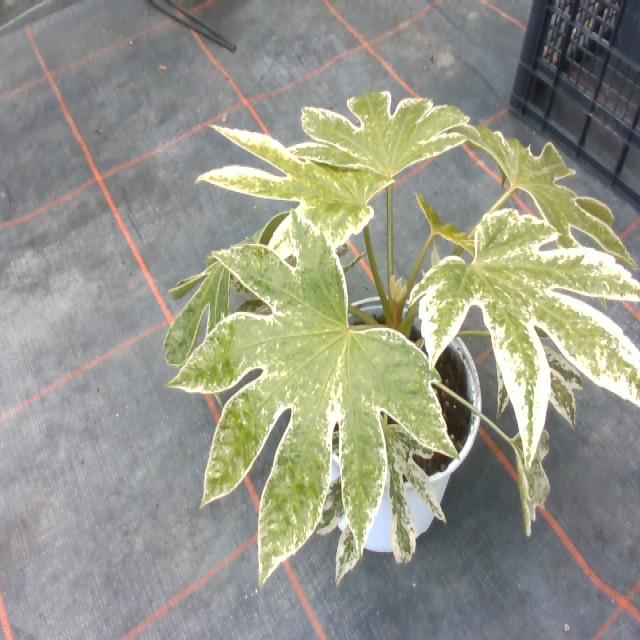Fatsia-japonica: (134, 223, 450, 574), (416, 203, 640, 440), (194, 104, 399, 263), (444, 107, 640, 268), (160, 200, 296, 362), (288, 89, 468, 180), (504, 400, 559, 533), (413, 191, 483, 260)
